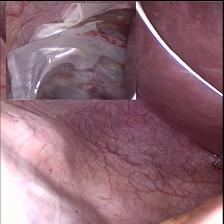Specimen Bag: (6, 0, 136, 99)
